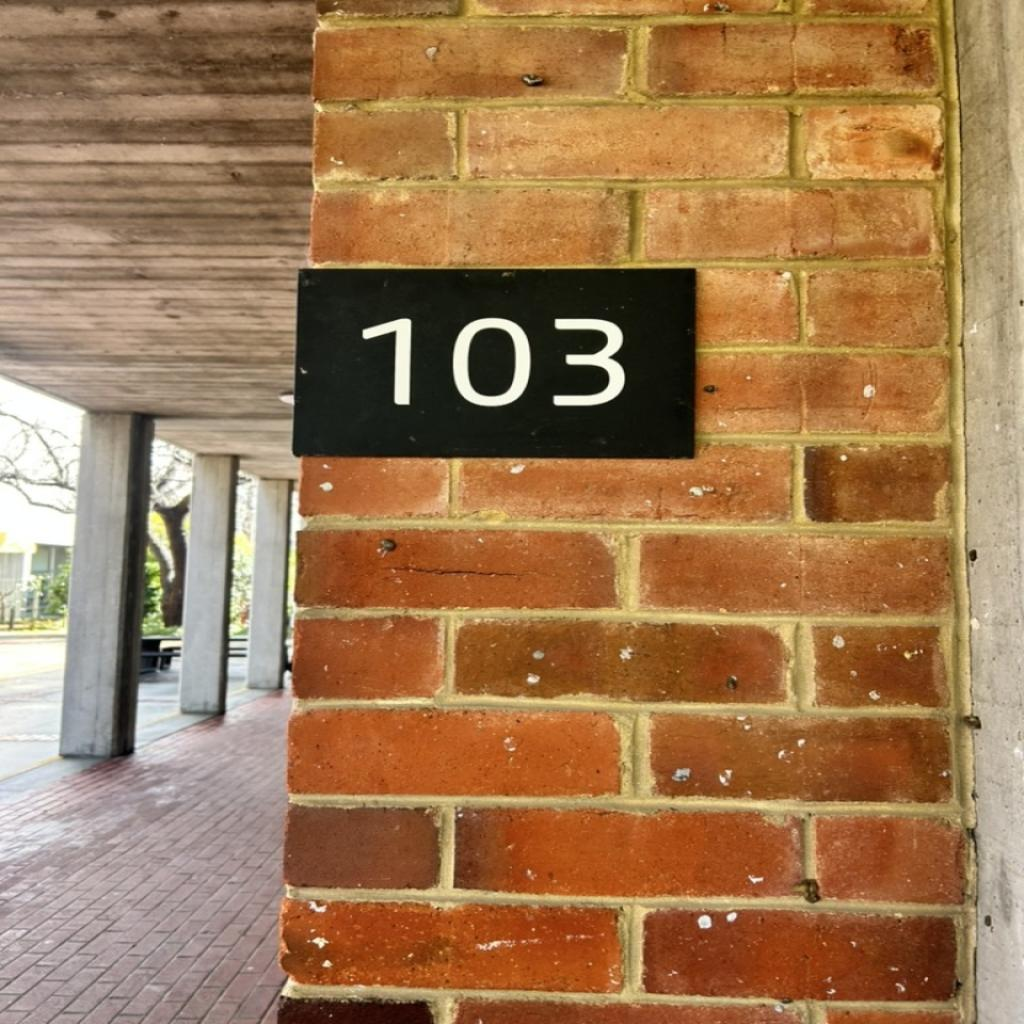BuildingCodes: (359, 308, 633, 414)
